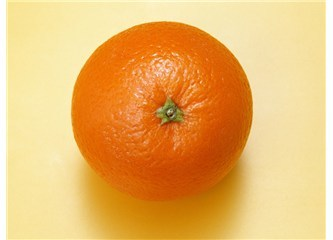orange: (71, 18, 258, 220)
